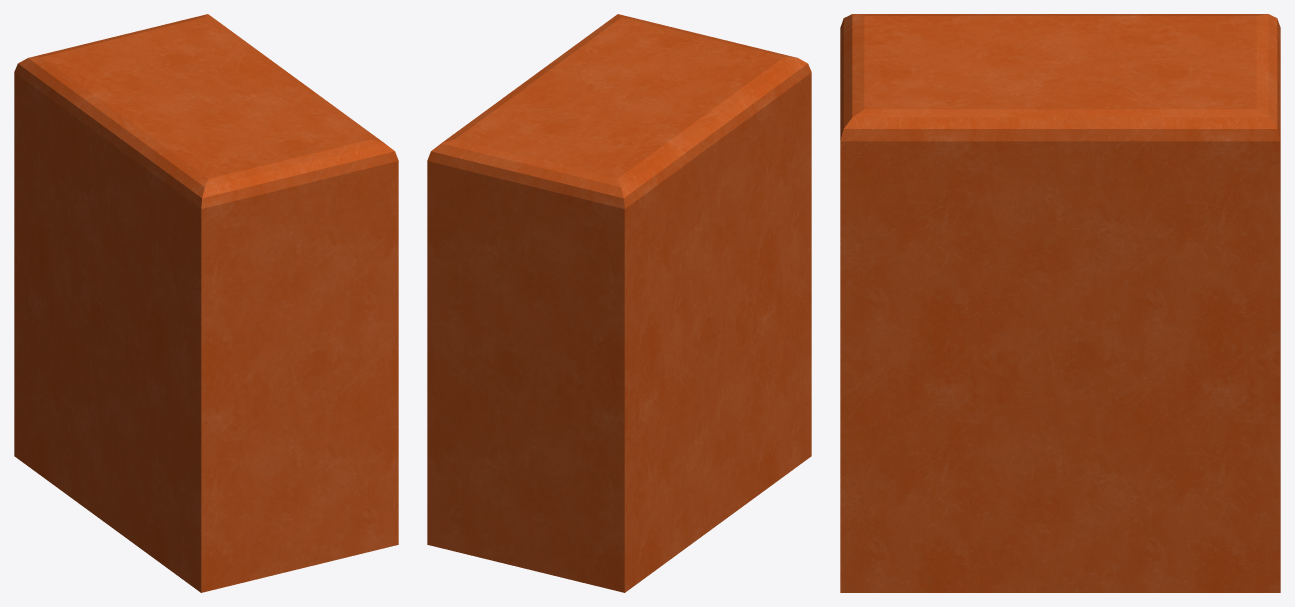
3 renders of one model, left to right at view 1: azimuth 30°, elevation 25°; view 2: azimuth 150°, elevation 25°; view 3: azimuth 270°, elevation 25°, orthographic. The views are drawn at different scales.
Visible parts, largest first — view 1: Cube.001; view 2: Cube.001; view 3: Cube.001.
Boxes of the visible parts, box(x1,y1,x2,y2) form: Cube.001: box(14, 14, 398, 592); Cube.001: box(427, 14, 811, 592); Cube.001: box(840, 14, 1280, 592).
Bounding box in the file's own units: 0.9687 × 1.88 × 1.59.
1 material, 1 textured.
